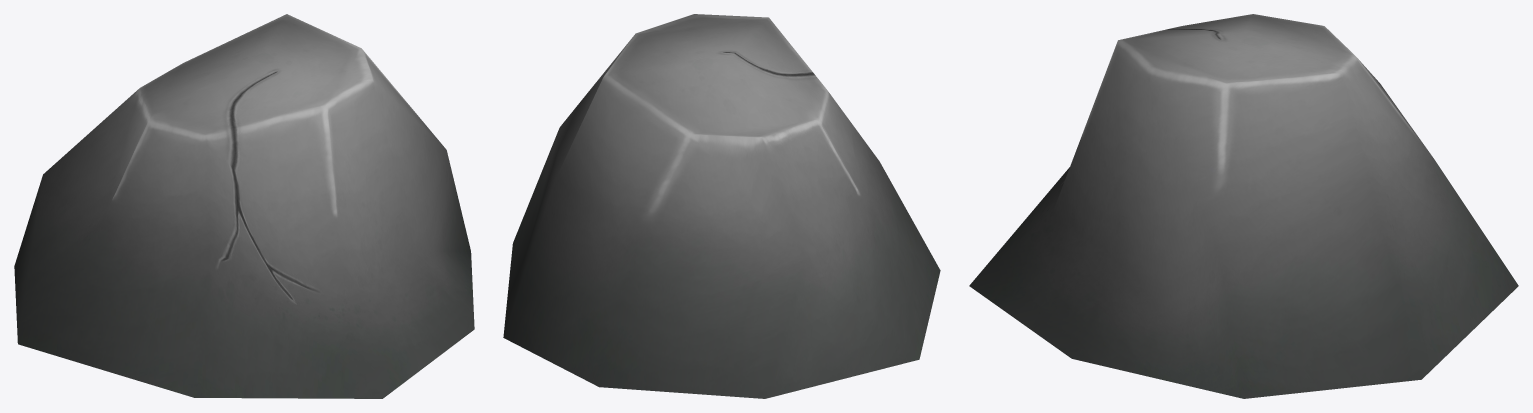
File: 石頭A.fbx
3 views of the same model, side by side, from view 1: azimuth 30°, elevation 25°; view 2: azimuth 150°, elevation 25°; view 3: azimuth 270°, elevation 25° (orthographic). The views are drawn at different scales.
Visible parts, largest first — view 1: Cube; view 2: Cube; view 3: Cube.
Boxes of the visible parts, x1,y1,x2,y2 form: Cube: (14,14,474,398); Cube: (503,14,940,398); Cube: (969,14,1518,398).
Bounding box in the file's own units: 3.83 × 2.15 × 3.94.
1 material, 1 textured.
